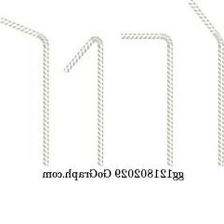drinking_straw: (117, 26, 179, 167), (0, 13, 54, 168), (59, 31, 110, 169), (185, 0, 223, 169)
